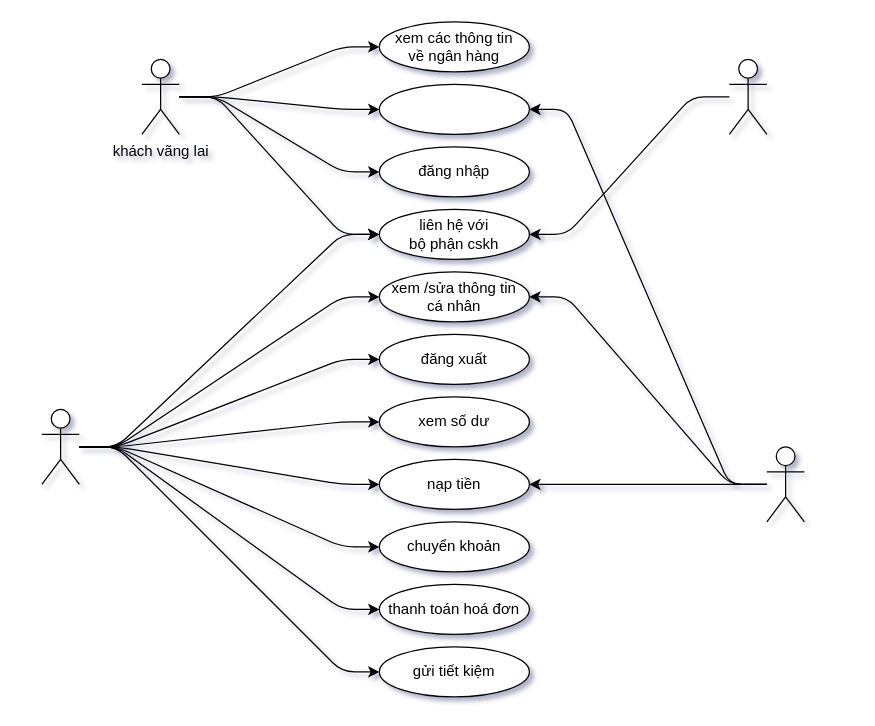
This 875x726 diagram has some shape labels left out. The box of each missing label's shape, as (x1, y1, x2, y2) in pixels:
bộ phận cskh: (728, 58, 767, 134)
ngân hàng liên kết: (766, 446, 804, 522)
người dùng: (41, 408, 79, 484)
đăng ký tài khoản: (378, 83, 529, 134)
